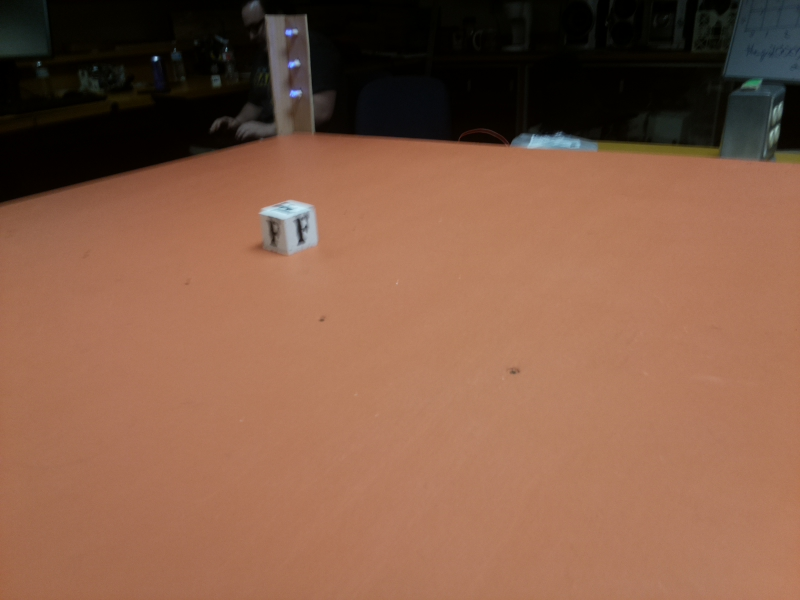blockF: (256, 199, 321, 261)
corner: (259, 12, 318, 143)
